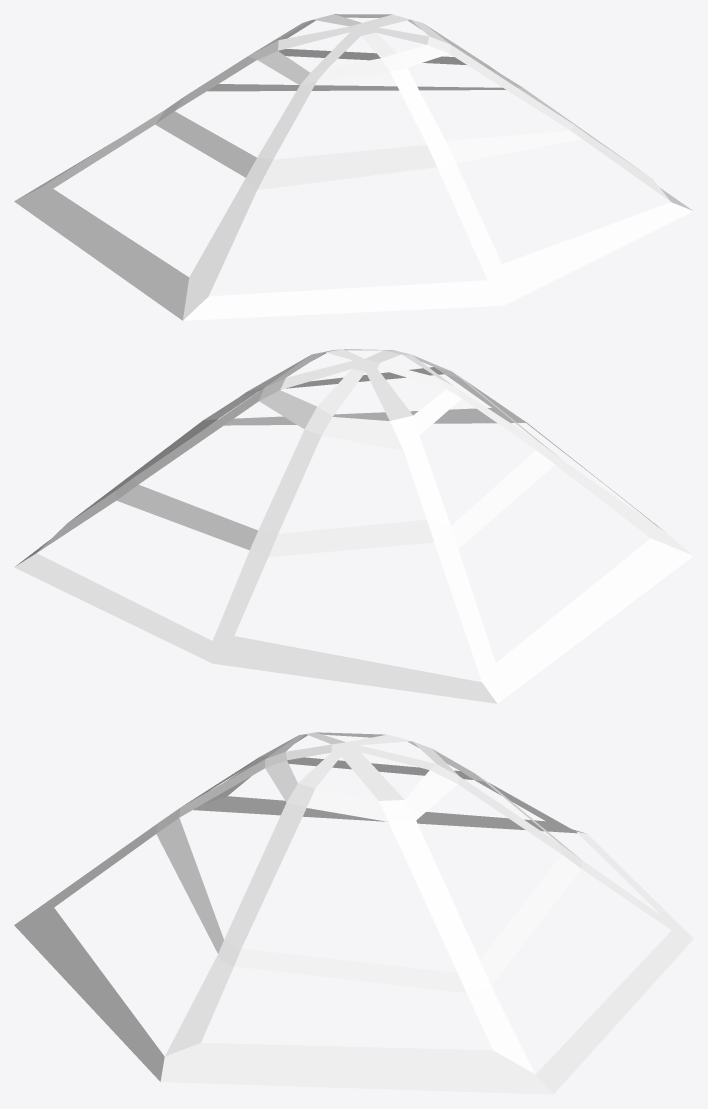
File: telarana.obj
3 views of the same model, one above another, from view 1: azimuth 30°, elevation 25°; view 2: azimuth 150°, elevation 25°; view 3: azimuth 270°, elevation 25° (orthographic). The views are drawn at different scales.
Visible parts, largest first — view 1: Plane_Plane.002; view 2: Plane_Plane.002; view 3: Plane_Plane.002.
Part boxes in pixels (<box>): Plane_Plane.002: <box>14,14,693,320</box>; Plane_Plane.002: <box>14,349,693,703</box>; Plane_Plane.002: <box>14,732,693,1094</box>.
Bounding box in the file's own units: 5.26 × 1.94 × 5.59.
